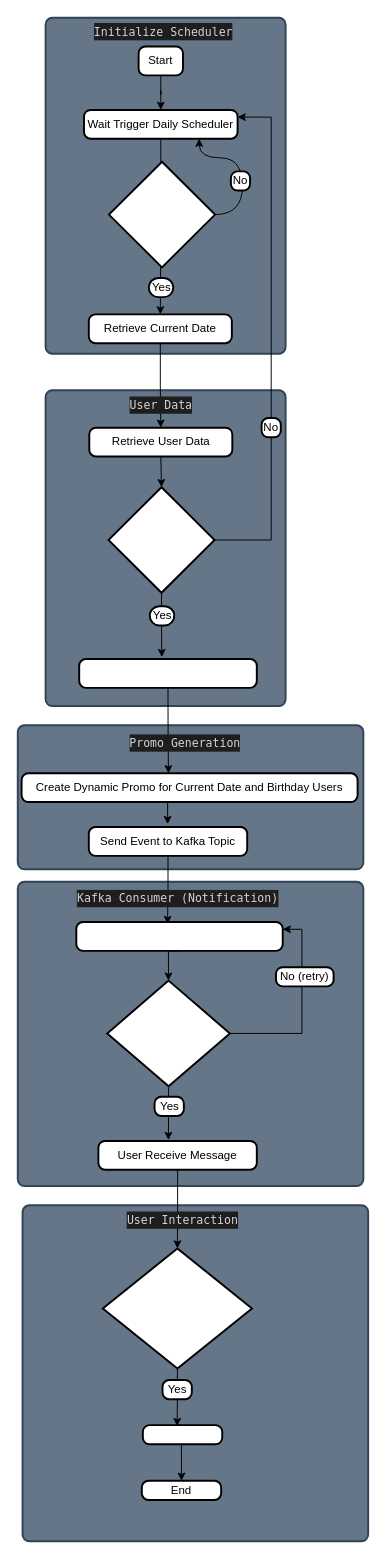
Image size: 385x1558. Some labels were removed from this diagram. The centre of each missing label's shape, as x and y in pixels:
Apply Promo: (182,1434)
Is it the Scheduled Time?: (162,214)
Is it the user's birthday?: (161,539)
Retrieve User's Verified Birthday: (167,673)
Send Notification to Email/Whatsapp: (179,936)
Success send notif?: (168,1033)
User Buy Sayakaya Product: (176,1308)
